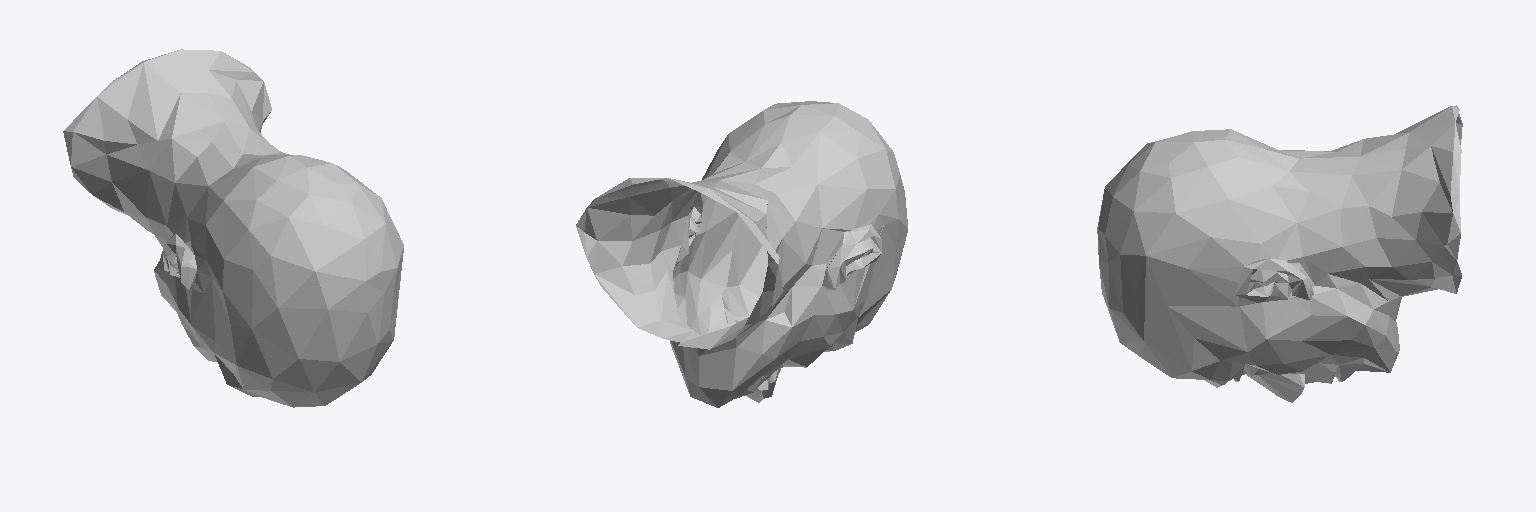
Rendered from mannequin.obj.
3 renders of one model, left to right at view 1: azimuth 30°, elevation 25°; view 2: azimuth 150°, elevation 25°; view 3: azimuth 270°, elevation 25°, orthographic.
Size of the model in its own units: 185 by 243 by 289.